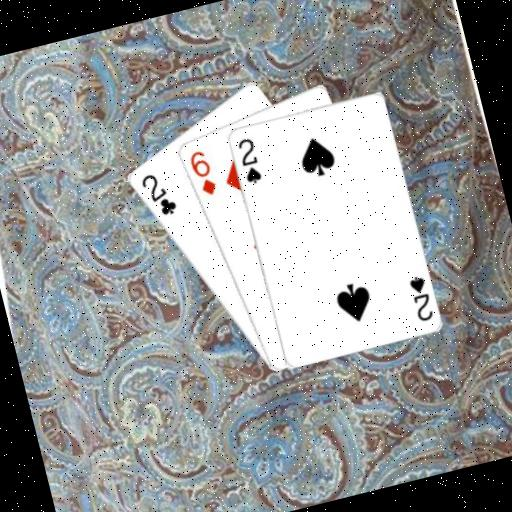2C: (136, 166, 180, 222)
2S: (232, 133, 264, 187), (404, 271, 436, 325)
6D: (184, 145, 220, 200)
